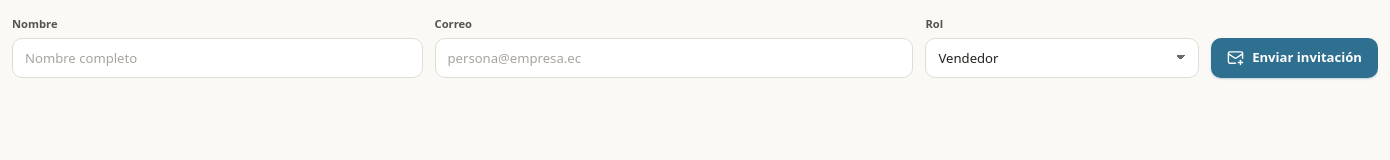
Test: al invitar con éxito avisa en la página y vacía el formulario
Type "Ana López" into the field labelled "Nombre".
click(217, 58); type("Ana López")  # box [12, 38, 422, 78]
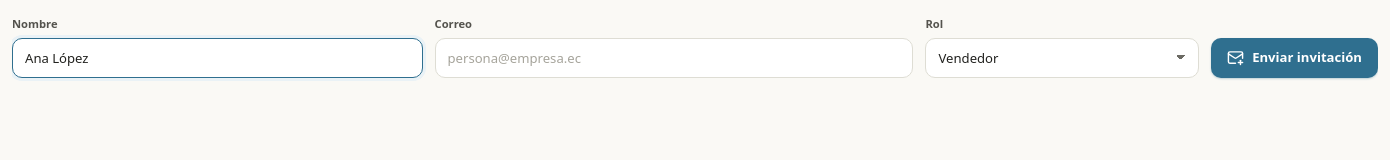
Click the button "Enviar invitación".
click(1295, 58)  # box [1211, 38, 1378, 78]
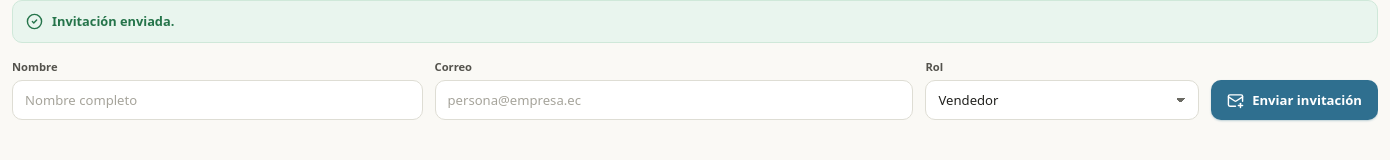
Result: the element showing "Invitación enviada." is shown at [12, 0, 1378, 42]
Result: the field labelled "Nombre" is empty at [12, 80, 422, 120]
